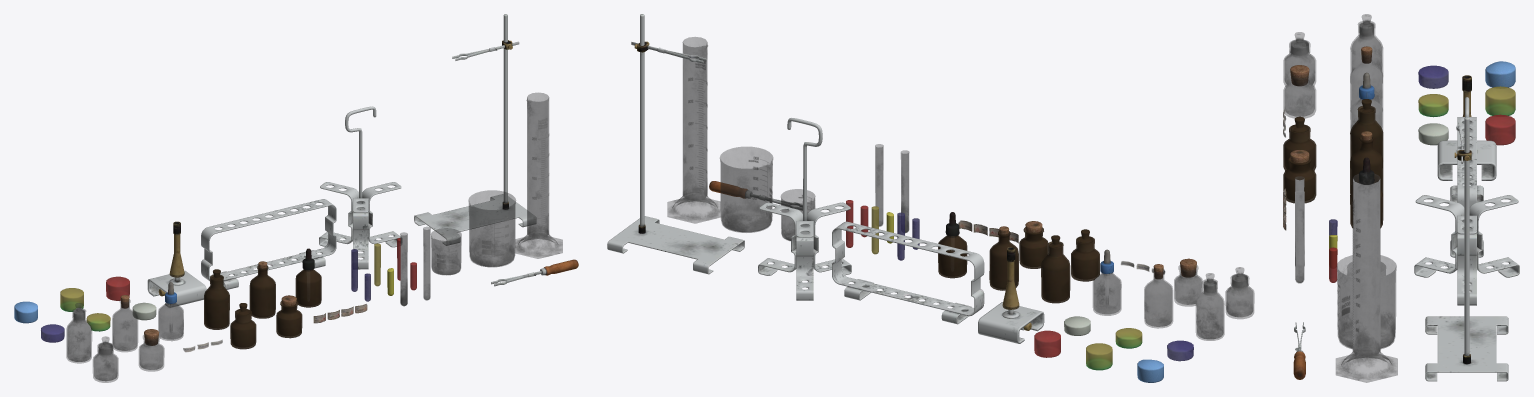
Rendered from chemistry.glb.
The picture shows the model from 3 angles, left to right: view 1: azimuth 30°, elevation 25°; view 2: azimuth 150°, elevation 25°; view 3: azimuth 270°, elevation 25°; orthographic projection. The views are drawn at different scales.
Visible parts, largest first — view 1: chemistry_set_beaker_large, chemistry_set_clamp_stand, chemistry_set_beaker_med, chemistry_set_test_tube_stand_b, chemistry_set_test_tube_stand_a, chemistry_set_bunsen_burner, chemistry_set_beaker_small, chemistry_set_bottle_clear_c, chemistry_set_bottle_dark_c, chemistry_set_bottle_dark_d, chemistry_set_bottle_clear_d, chemistry_set_bottle_dark_e (+11 smaller); view 2: chemistry_set_beaker_large, chemistry_set_clamp_stand, chemistry_set_beaker_med, chemistry_set_test_tube_stand_a, chemistry_set_test_tube_stand_b, chemistry_set_bunsen_burner, chemistry_set_bottle_dark_c, chemistry_set_bottle_clear_c, chemistry_set_bottle_clear_d, chemistry_set_bottle_dark_d, chemistry_set_bottle_clear_e, chemistry_set_bottle_clear_a (+11 smaller); view 3: chemistry_set_beaker_large, chemistry_set_clamp_stand, chemistry_set_test_tube_stand_b, chemistry_set_beaker_med, chemistry_set_bunsen_burner, chemistry_set_test_tube_stand_a, chemistry_set_bottle_clear_b, chemistry_set_bottle_dark_b, chemistry_set_bottle_clear_d, chemistry_set_bottle_clear_c, chemistry_set_bottle_dark_d, chemistry_set_bottle_dark_c (+20 smaller).
Boxes of the visible parts, x1=… form: chemistry_set_beaker_large: x1=515, y1=92, x2=562, y2=258; chemistry_set_clamp_stand: x1=414, y1=14, x2=536, y2=245; chemistry_set_beaker_med: x1=468, y1=190, x2=515, y2=267; chemistry_set_test_tube_stand_b: x1=319, y1=106, x2=402, y2=269; chemistry_set_test_tube_stand_a: x1=201, y1=199, x2=336, y2=289; chemistry_set_bunsen_burner: x1=147, y1=221, x2=206, y2=307; chemistry_set_beaker_small: x1=431, y1=228, x2=461, y2=275; chemistry_set_bottle_clear_c: x1=66, y1=308, x2=91, y2=363; chemistry_set_bottle_dark_c: x1=204, y1=275, x2=229, y2=329; chemistry_set_bottle_dark_d: x1=249, y1=265, x2=275, y2=318; chemistry_set_bottle_clear_d: x1=112, y1=299, x2=137, y2=351; chemistry_set_bottle_dark_e: x1=295, y1=269, x2=321, y2=307; chemistry_set_beaker_large: x1=667, y1=37, x2=720, y2=223; chemistry_set_clamp_stand: x1=607, y1=14, x2=744, y2=274; chemistry_set_beaker_med: x1=720, y1=147, x2=773, y2=232; chemistry_set_test_tube_stand_a: x1=832, y1=221, x2=984, y2=324; chemistry_set_test_tube_stand_b: x1=758, y1=118, x2=851, y2=300; chemistry_set_bunsen_burner: x1=978, y1=247, x2=1044, y2=343; chemistry_set_bottle_dark_c: x1=1041, y1=241, x2=1070, y2=303; chemistry_set_bottle_clear_c: x1=1196, y1=279, x2=1224, y2=340; chemistry_set_bottle_clear_d: x1=1144, y1=269, x2=1172, y2=328; chemistry_set_bottle_dark_d: x1=989, y1=231, x2=1018, y2=290; chemistry_set_bottle_clear_e: x1=1093, y1=273, x2=1121, y2=315; chemistry_set_bottle_clear_a: x1=1225, y1=274, x2=1254, y2=318; chemistry_set_beaker_large: x1=1335, y1=172, x2=1397, y2=382; chemistry_set_clamp_stand: x1=1425, y1=117, x2=1508, y2=381; chemistry_set_test_tube_stand_b: x1=1414, y1=97, x2=1519, y2=305; chemistry_set_beaker_med: x1=1336, y1=255, x2=1396, y2=349; chemistry_set_bunsen_burner: x1=1437, y1=75, x2=1496, y2=180; chemistry_set_test_tube_stand_a: x1=1450, y1=117, x2=1483, y2=257; chemistry_set_bottle_clear_b: x1=1283, y1=72, x2=1315, y2=118; chemistry_set_bottle_dark_b: x1=1283, y1=157, x2=1316, y2=203; chemistry_set_bottle_clear_d: x1=1350, y1=52, x2=1382, y2=110; chemistry_set_bottle_clear_c: x1=1350, y1=21, x2=1383, y2=82; chemistry_set_bottle_dark_d: x1=1350, y1=136, x2=1383, y2=193; chemistry_set_bottle_dark_c: x1=1350, y1=106, x2=1383, y2=159.
Size of the model in its own units: 1.08 by 0.429 by 0.3539.
Materials: 2 (2 with a texture image).
